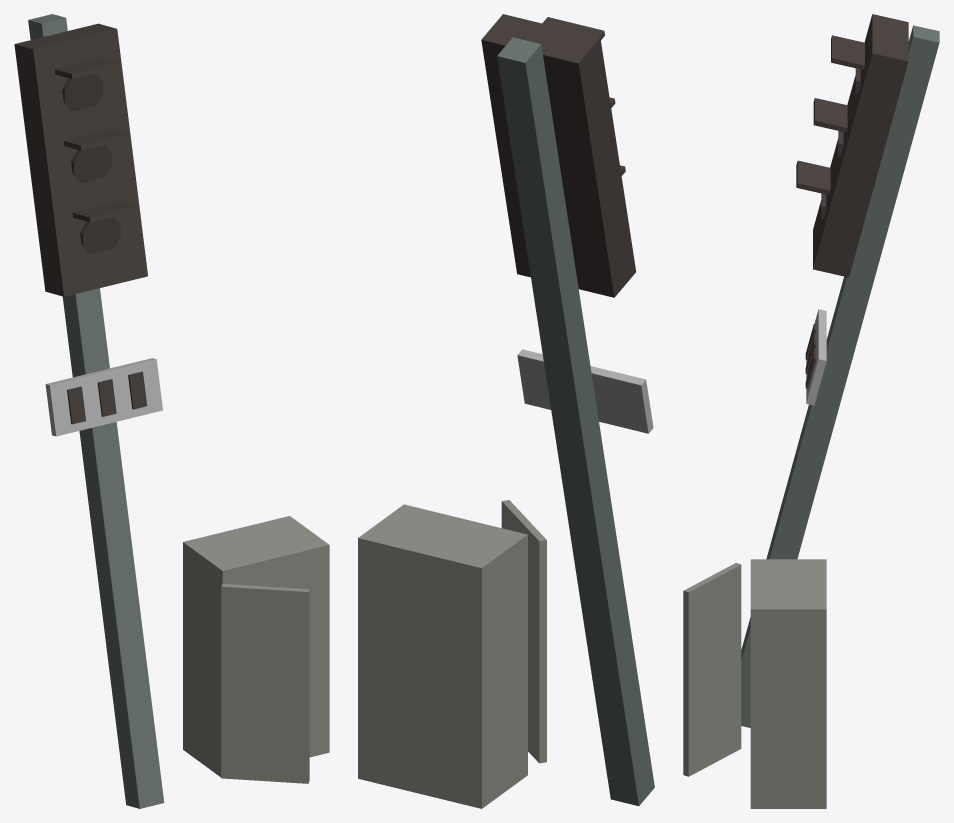
File: SM_senal_via_v2_LOD0.fbx
3 views of the same model, side by side, from view 1: azimuth 30°, elevation 25°; view 2: azimuth 150°, elevation 25°; view 3: azimuth 270°, elevation 25° (orthographic). The views are drawn at different scales.
Parts seen in each view (by area): view 1: SM_bloques.senal_via_v2_LOD0; view 2: SM_bloques.senal_via_v2_LOD0; view 3: SM_bloques.senal_via_v2_LOD0.
Part boxes in pixels (left/top/right/bottom): SM_bloques.senal_via_v2_LOD0: left=14, top=14, right=329, bottom=808; SM_bloques.senal_via_v2_LOD0: left=358, top=14, right=654, bottom=808; SM_bloques.senal_via_v2_LOD0: left=683, top=14, right=939, bottom=808.
Bounding box in the file's own units: 1.6 × 4.5 × 1.51.
